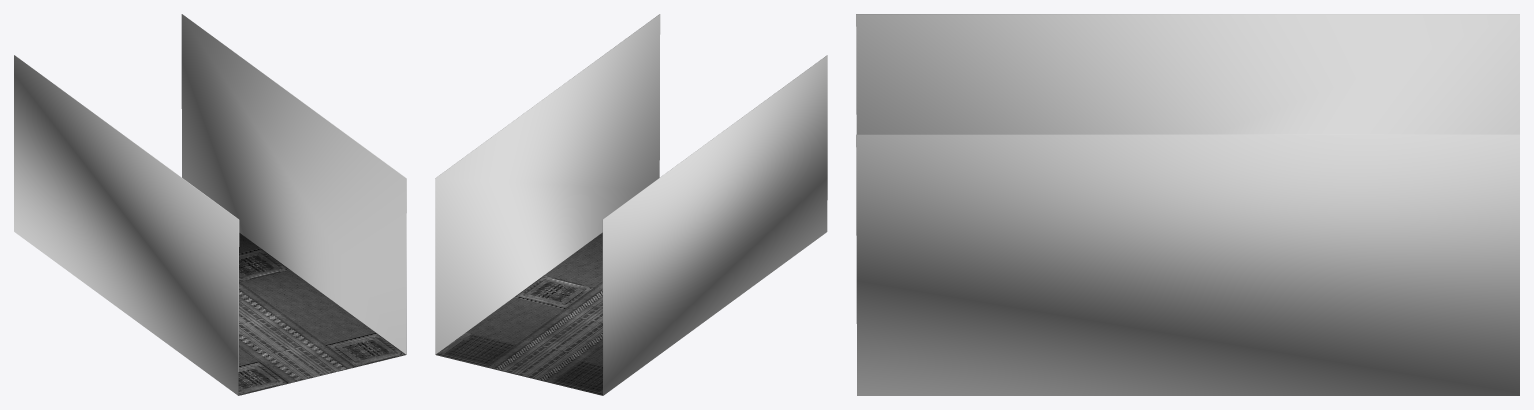
File: corridor_i_shape.fbx
3 views of the same model, side by side, from view 1: azimuth 30°, elevation 25°; view 2: azimuth 150°, elevation 25°; view 3: azimuth 270°, elevation 25° (orthographic). The views are drawn at different scales.
Parts seen in each view (by area): view 1: corridor_i_shape; view 2: corridor_i_shape; view 3: corridor_i_shape.
Boxes of the visible parts, x1=… form: corridor_i_shape: x1=14, y1=14, x2=406, y2=395; corridor_i_shape: x1=435, y1=14, x2=827, y2=395; corridor_i_shape: x1=856, y1=14, x2=1519, y2=395.
Size of the model in its own units: 362 by 364 by 838.
